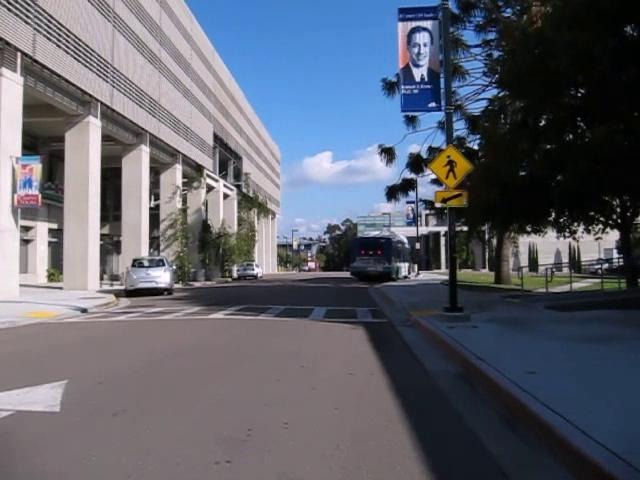pedestrianCrossing: (426, 142, 474, 191)
